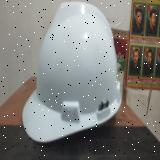Helmet: (22, 2, 122, 144)
